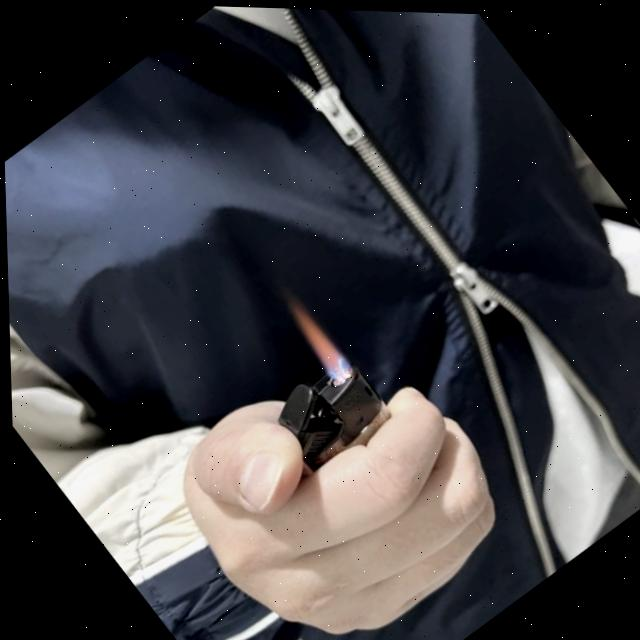Fire: (274, 297, 349, 382)
